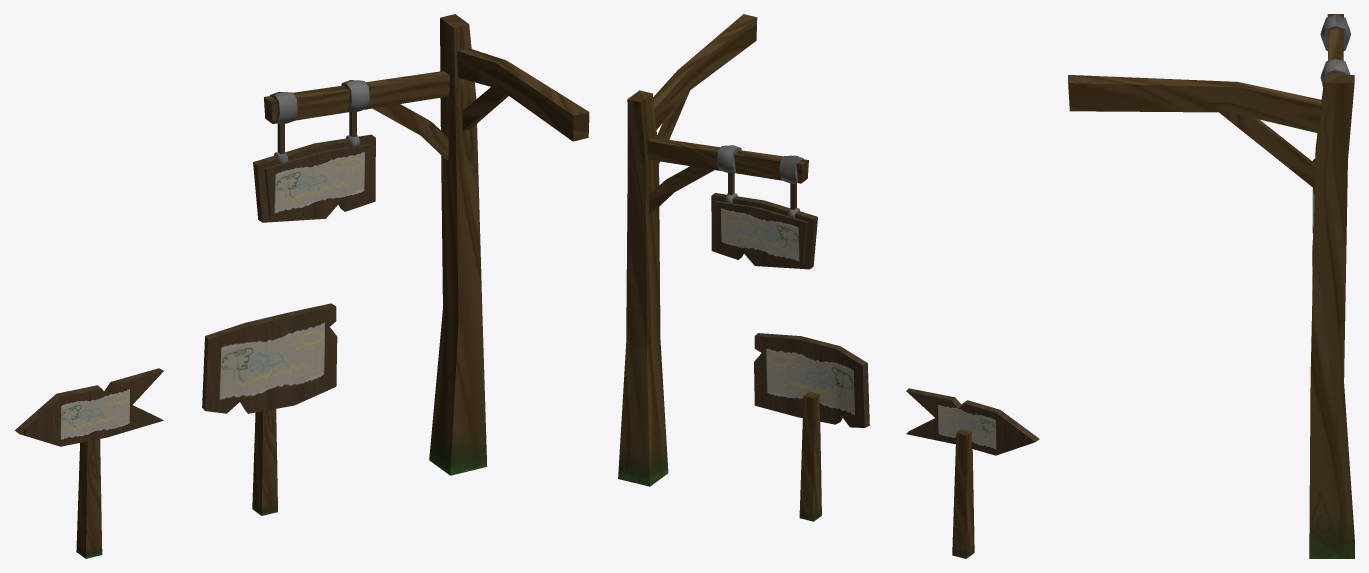
File: signs.fbx
The picture shows the model from 3 angles, left to right: view 1: azimuth 30°, elevation 25°; view 2: azimuth 150°, elevation 25°; view 3: azimuth 270°, elevation 25°; orthographic projection. The views are drawn at different scales.
Parts seen in each view (by area): view 1: sign_arrow, sign_arrow.002, sign_arrow.001; view 2: sign_arrow, sign_arrow.002, sign_arrow.001; view 3: sign_arrow, sign_wall.005.
Boxes of the visible parts, left/top/right/bottom form: sign_arrow: left=253, top=14, right=589, bottom=475; sign_arrow.002: left=202, top=303, right=337, bottom=515; sign_arrow.001: left=15, top=368, right=163, bottom=558; sign_arrow: left=618, top=14, right=817, bottom=486; sign_arrow.002: left=754, top=333, right=869, bottom=521; sign_arrow.001: left=906, top=388, right=1039, bottom=558; sign_arrow: left=1068, top=14, right=1354, bottom=558; sign_wall.005: left=1320, top=14, right=1350, bottom=50.
Bounding box in the file's own units: 221 × 200 × 110.
